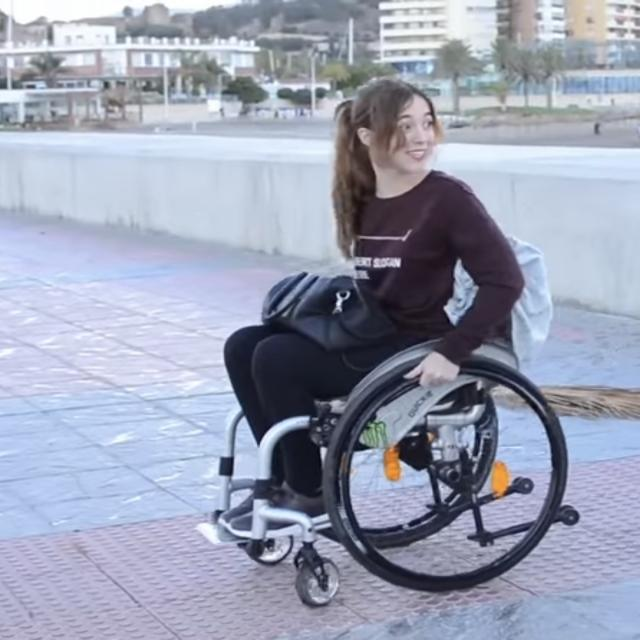wheelchairs: (211, 241, 585, 609)
